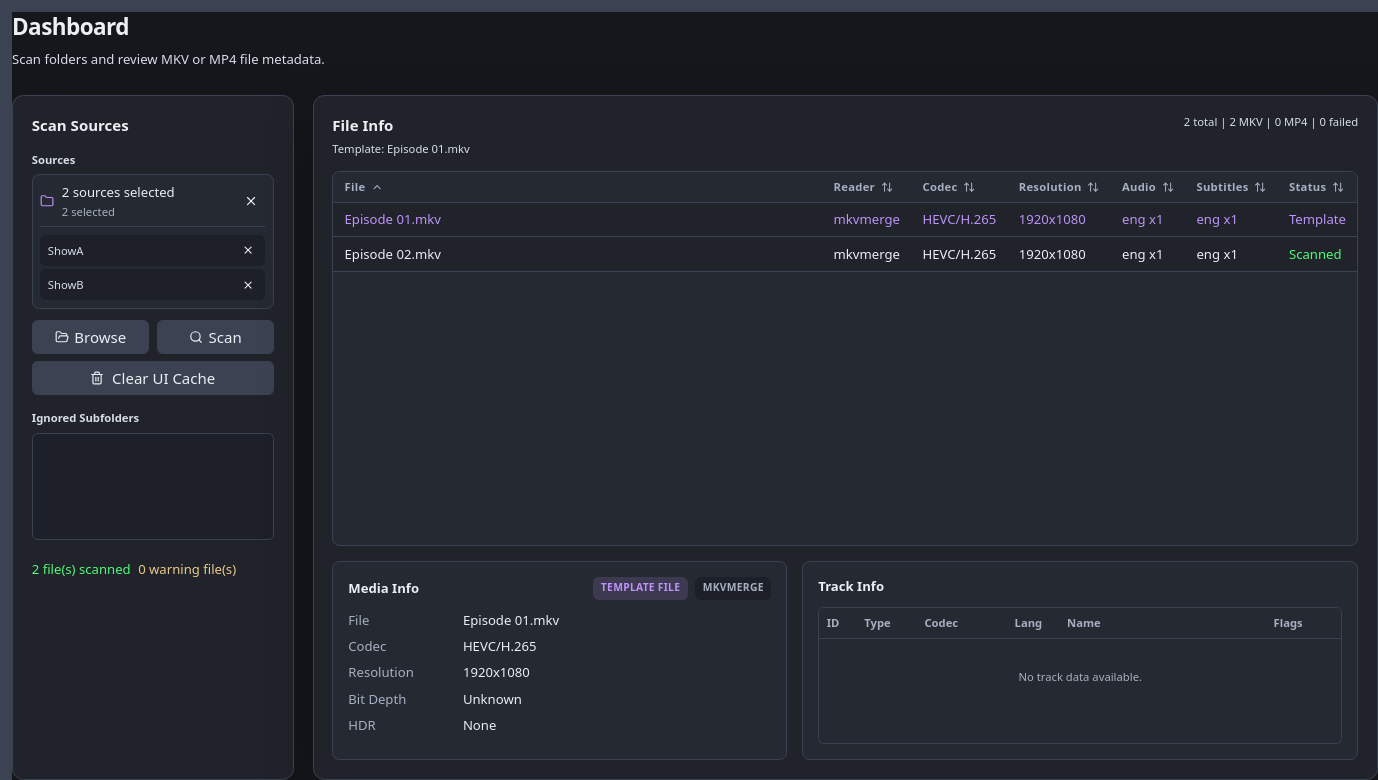
Test: Dashboard scan source labels › removes file-info rows immediately when their source is cleared
The image size is (1378, 780).
Expected: the row "Episode 01.mkv" is shown, x1=333 y1=202 x2=1357 y2=237
Expected: the row "Episode 02.mkv" is shown, x1=333 y1=237 x2=1357 y2=272
Click the button named "clear selected sources" at (251, 201), box x1=236 y1=186 x2=266 y2=215
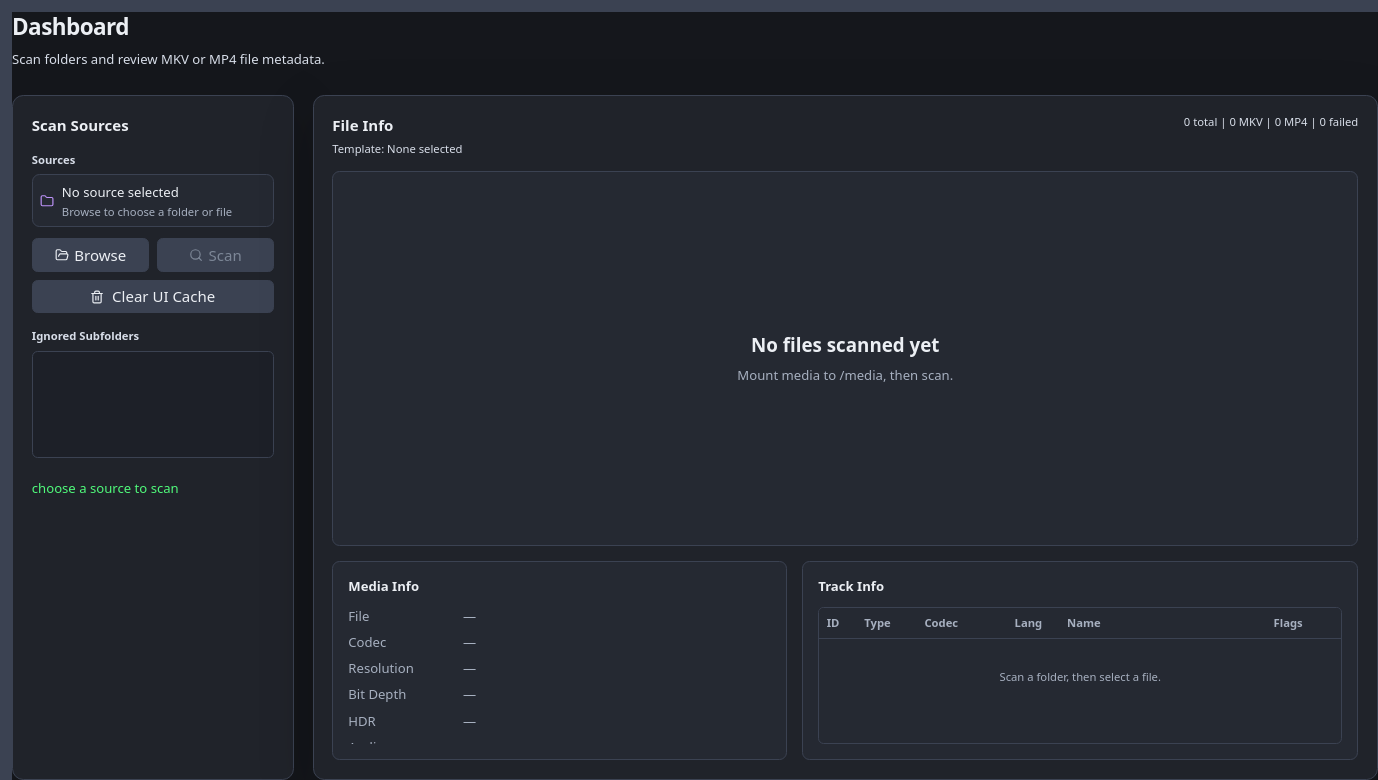
Expected: the text "Episode 01.mkv" is gone
Expected: the text "Episode 02.mkv" is gone
